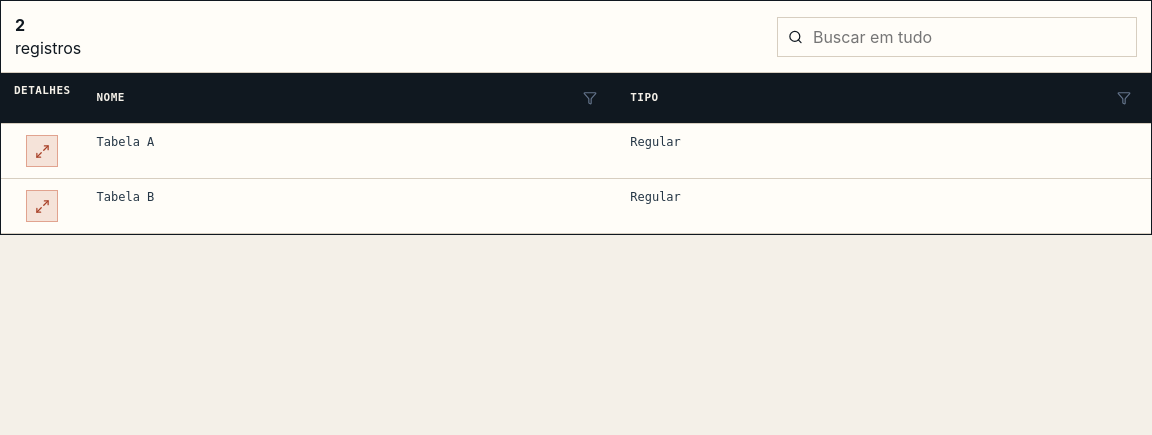
Scenario: DataTable › torna todas as linhas expansíveis mesmo com conteúdo curto
This screenshot has width=1152, height=435.
Step 1. Click the button named "Expandir linha" next to "Tabela A" → (42, 151), box [26, 135, 58, 167]
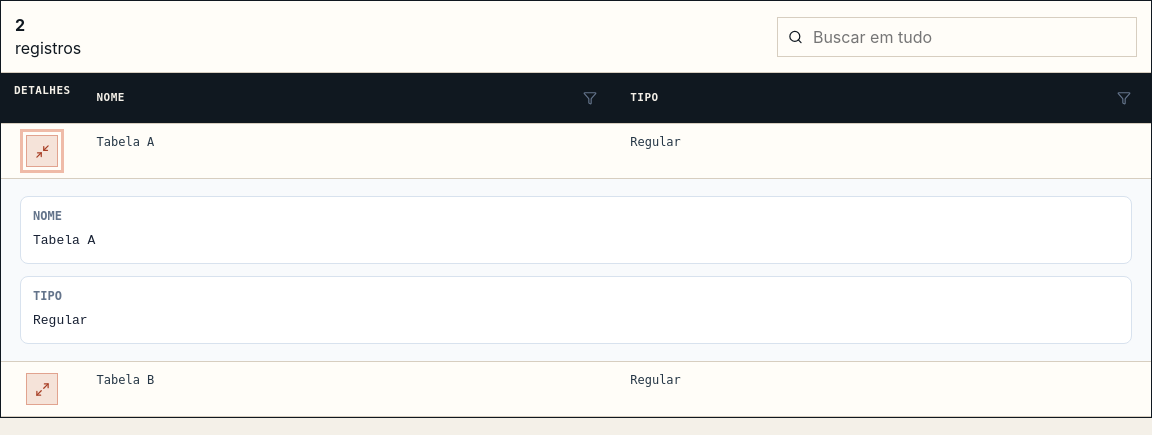
Expected: the button named "Recolher linha" is expanded
Expected: the row with class "expanded-row" is shown, [1, 178, 1151, 362]
Expected: the 2nd text "Nome" is shown, [33, 209, 62, 223]
Step 2. Click the button named "Recolher linha" → (42, 151), box [26, 135, 58, 167]
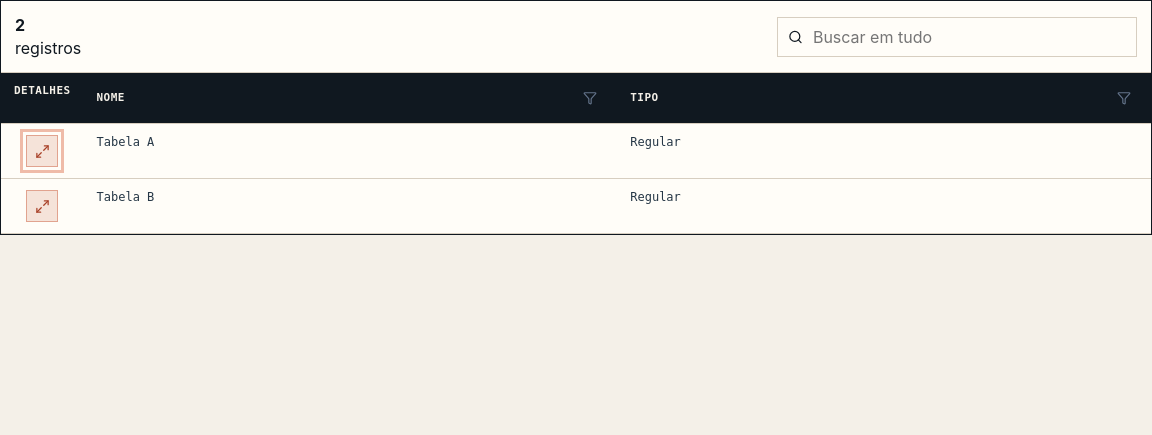
Expected: the row with class "expanded-row" is gone
